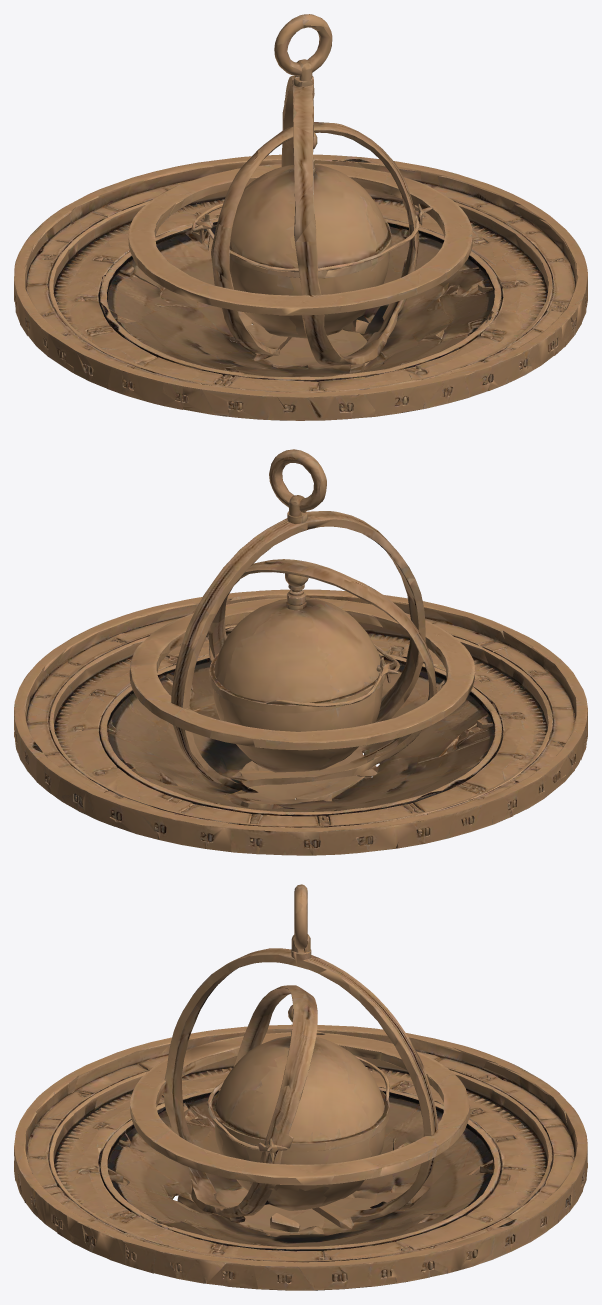
File: astrolabe.glb
3 views of the same model, one above another, from view 1: azimuth 30°, elevation 25°; view 2: azimuth 150°, elevation 25°; view 3: azimuth 270°, elevation 25° (orthographic).
Size of the model in its own units: 1.9 by 1.22 by 1.9.
Materials: 1 (1 with a texture image).
